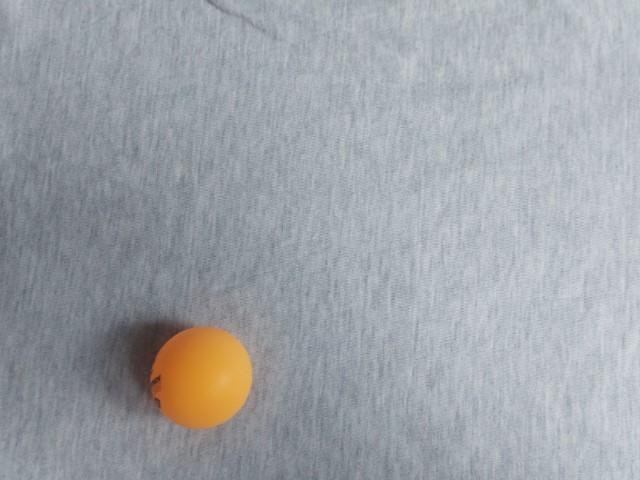oball: (376, 44, 498, 156)
